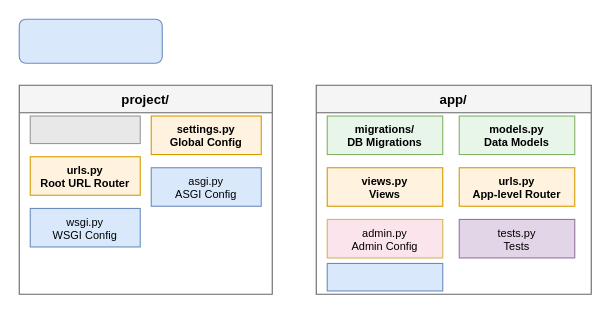
Some shapes in this 611 by 314 pixel diagram are drawn without their labels. The shapes that lost their labels are listed below. From the top down, each one's centre as x and y in pixels, then its label:
At point (90, 40): "manage.py Project CLI Entry".
At point (84, 129): "__init__.py".
At point (384, 276): "apps.py App Config".
